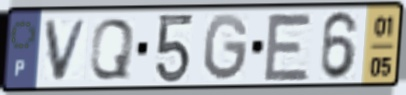5: (153, 12, 196, 85)
6: (319, 9, 360, 83)
E: (261, 11, 315, 83)
G: (203, 11, 252, 84)
Q: (87, 16, 137, 82)
V: (43, 16, 92, 83)
